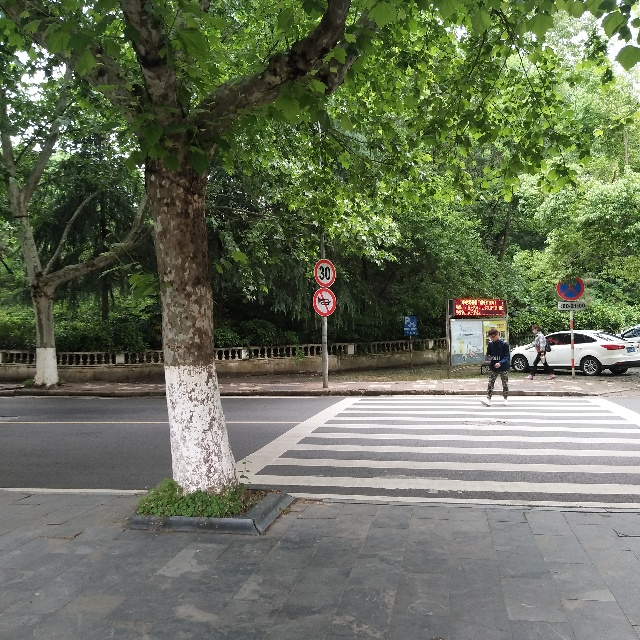nohonk: (312, 284, 339, 320)
stop: (557, 273, 587, 306)
